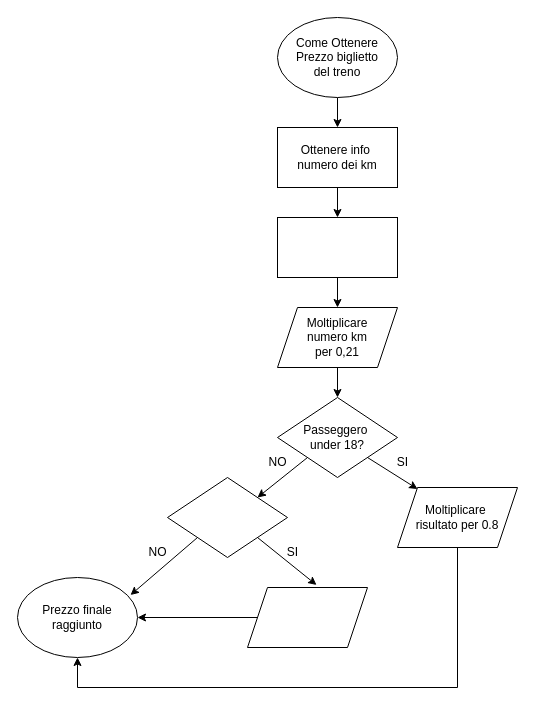
Some shapes in this 535 by 713 pixel diagram are drawn without their labels. The centre of each missing label's shape, as x and y in pixels:
Moltiplicare risultato per 0.6: the point at 307,617
Ottenere info età passeggero: the point at 337,247
Passeggero over 65?: the point at 227,517
